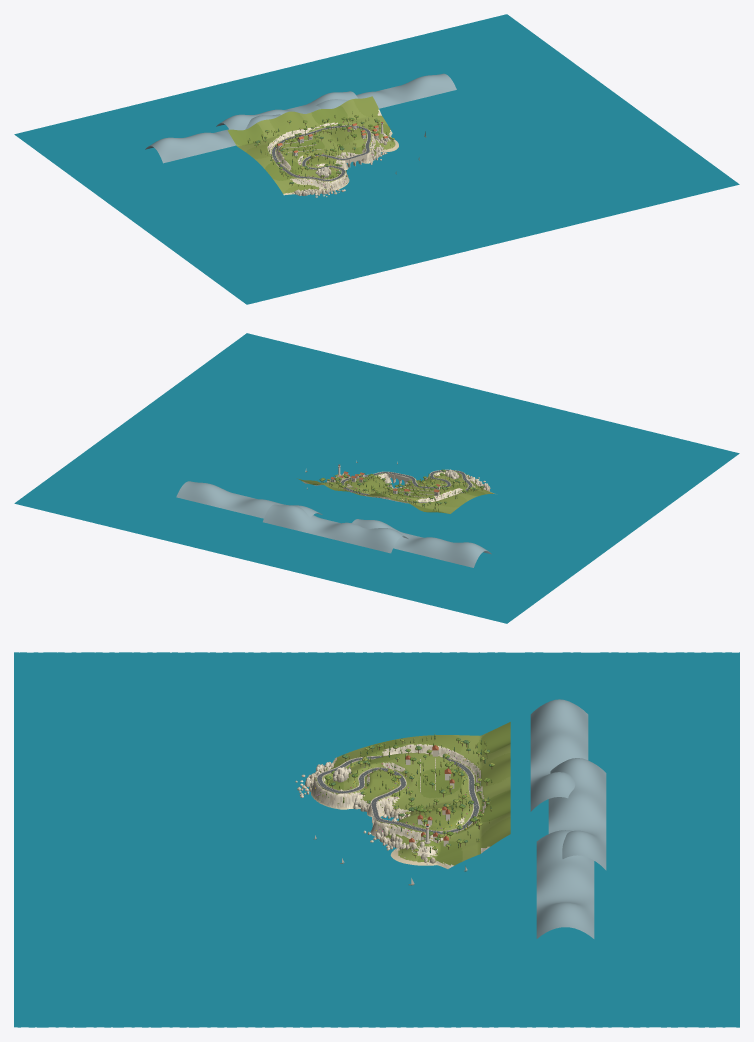
The model's file is Coastal_Circuit.glb.
3 renders of one model, top to bottom at view 1: azimuth 30°, elevation 25°; view 2: azimuth 150°, elevation 25°; view 3: azimuth 270°, elevation 25°, orthographic. The views are drawn at different scales.
Visible parts, largest first — view 1: WATER_STATIC_BATCH, TERRAIN_STATIC_BATCH, VEGETATION_STATIC_BATCH, ROAD_STATIC_BATCH; view 2: WATER_STATIC_BATCH, TERRAIN_STATIC_BATCH, VEGETATION_STATIC_BATCH, ROAD_STATIC_BATCH; view 3: WATER_STATIC_BATCH, TERRAIN_STATIC_BATCH, VEGETATION_STATIC_BATCH, ROAD_STATIC_BATCH, VILLAGE_STATIC_BATCH.
Part boxes in pixels (left/top/right/bottom): WATER_STATIC_BATCH: left=14, top=14, right=739, bottom=304; TERRAIN_STATIC_BATCH: left=145, top=73, right=456, bottom=197; VEGETATION_STATIC_BATCH: left=247, top=111, right=394, bottom=188; ROAD_STATIC_BATCH: left=271, top=125, right=371, bottom=181; WATER_STATIC_BATCH: left=14, top=333, right=739, bottom=623; TERRAIN_STATIC_BATCH: left=176, top=469, right=494, bottom=567; VEGETATION_STATIC_BATCH: left=319, top=469, right=484, bottom=511; ROAD_STATIC_BATCH: left=340, top=469, right=472, bottom=502; WATER_STATIC_BATCH: left=14, top=652, right=739, bottom=1027; TERRAIN_STATIC_BATCH: left=295, top=699, right=606, bottom=938; VEGETATION_STATIC_BATCH: left=312, top=734, right=494, bottom=857; ROAD_STATIC_BATCH: left=316, top=755, right=479, bottom=834; VILLAGE_STATIC_BATCH: left=405, top=745, right=454, bottom=847.
Size of the model in its own units: 1474 by 88.27 by 1206.
